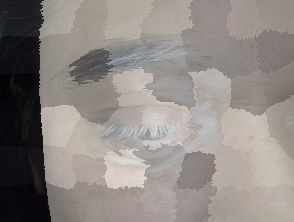vitiligo: (70, 31, 256, 211)
